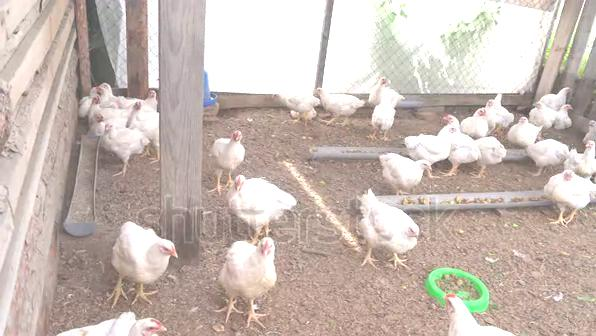Pollos: (216, 234, 280, 302), (111, 222, 177, 284), (358, 188, 420, 253), (229, 175, 294, 220), (438, 113, 477, 176), (377, 148, 434, 190), (546, 169, 595, 211), (314, 84, 366, 115), (103, 122, 149, 157), (208, 131, 248, 169), (272, 90, 317, 118), (529, 135, 565, 167), (85, 94, 131, 119), (368, 101, 396, 140), (504, 116, 540, 145), (369, 76, 404, 104), (463, 107, 494, 137), (567, 140, 595, 168), (530, 101, 556, 126), (554, 102, 572, 131)
